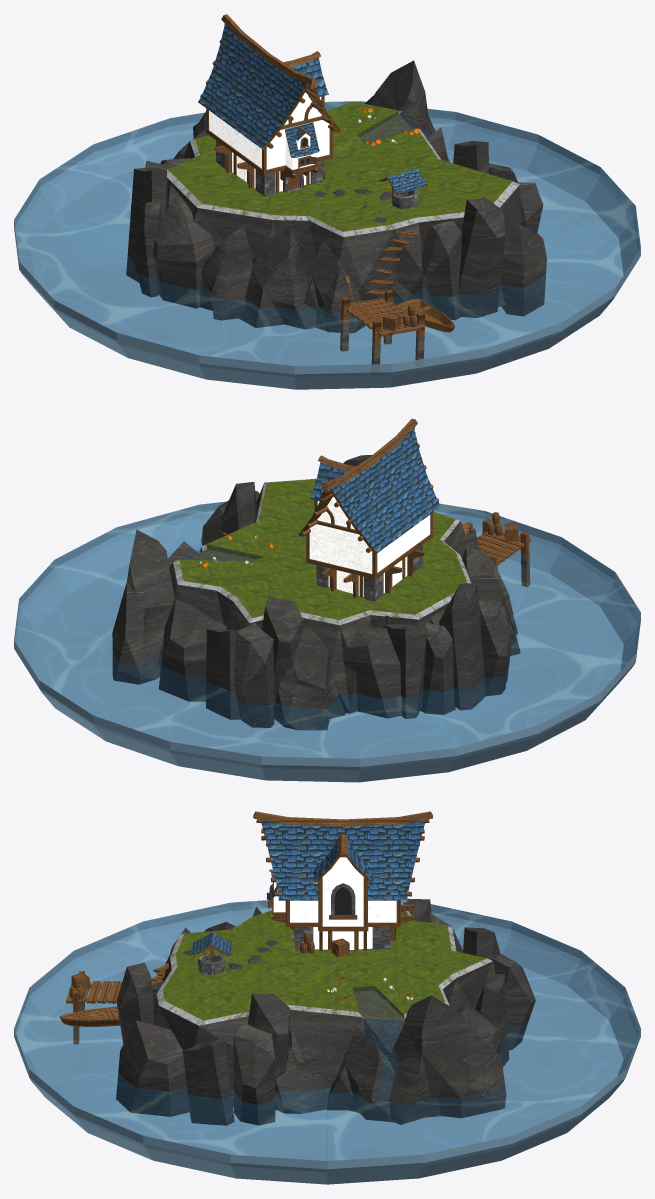
File: lowpoly-island.glb
3 views of the same model, one above another, from view 1: azimuth 30°, elevation 25°; view 2: azimuth 150°, elevation 25°; view 3: azimuth 270°, elevation 25° (orthographic).
Visible parts, largest first — view 1: pDisc1, polySurface32, polySurface10, well, polySurface1, pCube22; view 2: pDisc1, polySurface32, polySurface10, polySurface1; view 3: pDisc1, polySurface32, polySurface10, polySurface1, well, pCube22.
Boxes of the visible parts, bbox=[...] form: pDisc1: bbox=[14, 101, 640, 389]; polySurface32: bbox=[126, 60, 546, 333]; polySurface10: bbox=[198, 14, 340, 196]; well: bbox=[380, 168, 427, 208]; polySurface1: bbox=[359, 113, 430, 144]; pCube22: bbox=[397, 299, 454, 332]; pDisc1: bbox=[14, 501, 640, 782]; polySurface32: bbox=[112, 455, 520, 730]; polySurface10: bbox=[298, 418, 440, 601]; polySurface1: bbox=[183, 546, 258, 561]; pDisc1: bbox=[14, 900, 640, 1184]; polySurface32: bbox=[116, 898, 535, 1125]; polySurface10: bbox=[253, 811, 432, 951]; polySurface1: bbox=[353, 988, 404, 1102]; well: bbox=[192, 932, 231, 975]; pCube22: bbox=[60, 1006, 120, 1026].
Size of the model in its own units: 31.42 by 12.37 by 31.42.
Materials: 18 (10 with a texture image).
